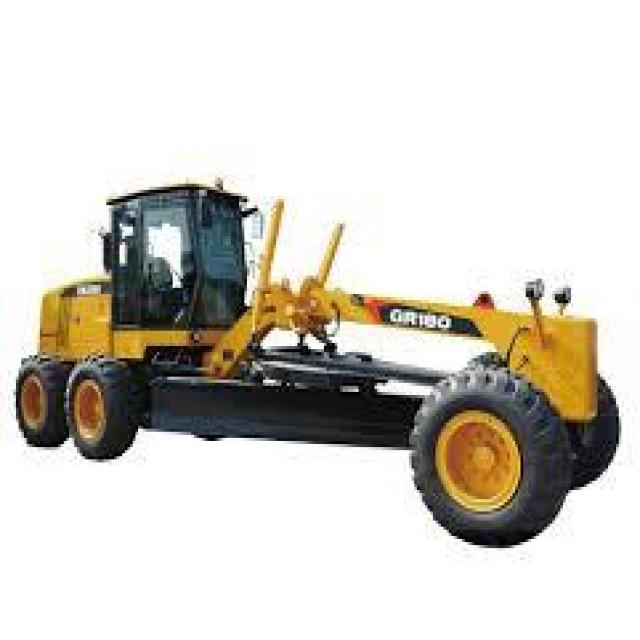Grader: (5, 159, 638, 554)
